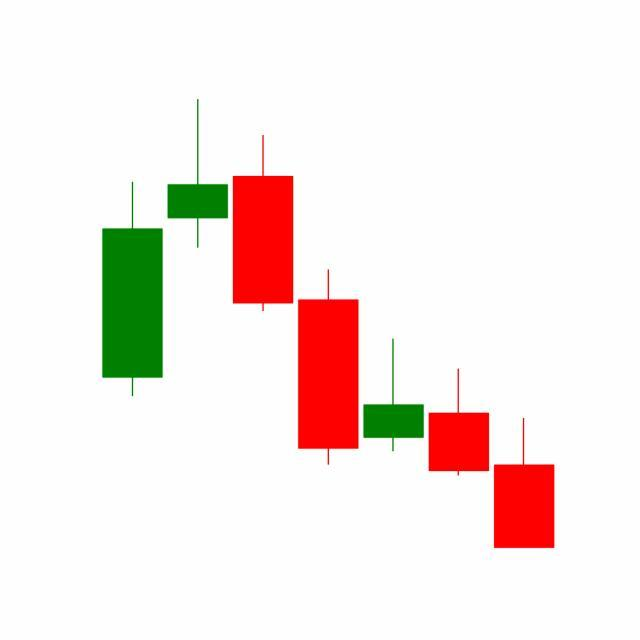Hikkake Pattern: (165, 99, 492, 481)
